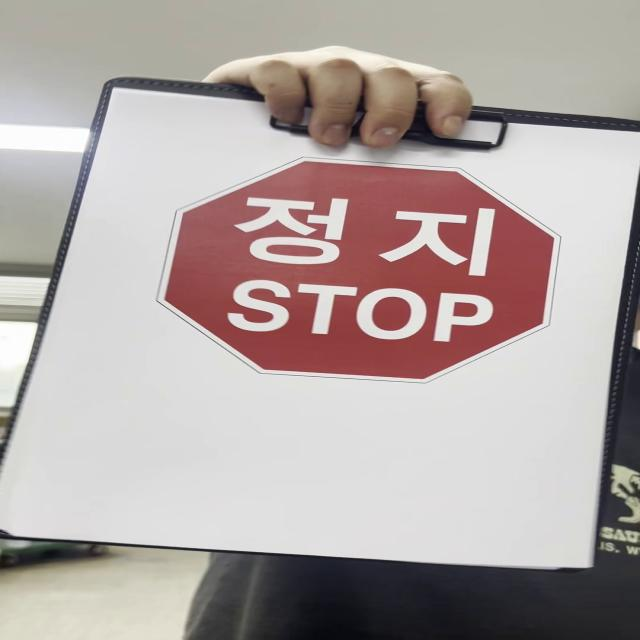stop: (155, 155, 562, 385)
